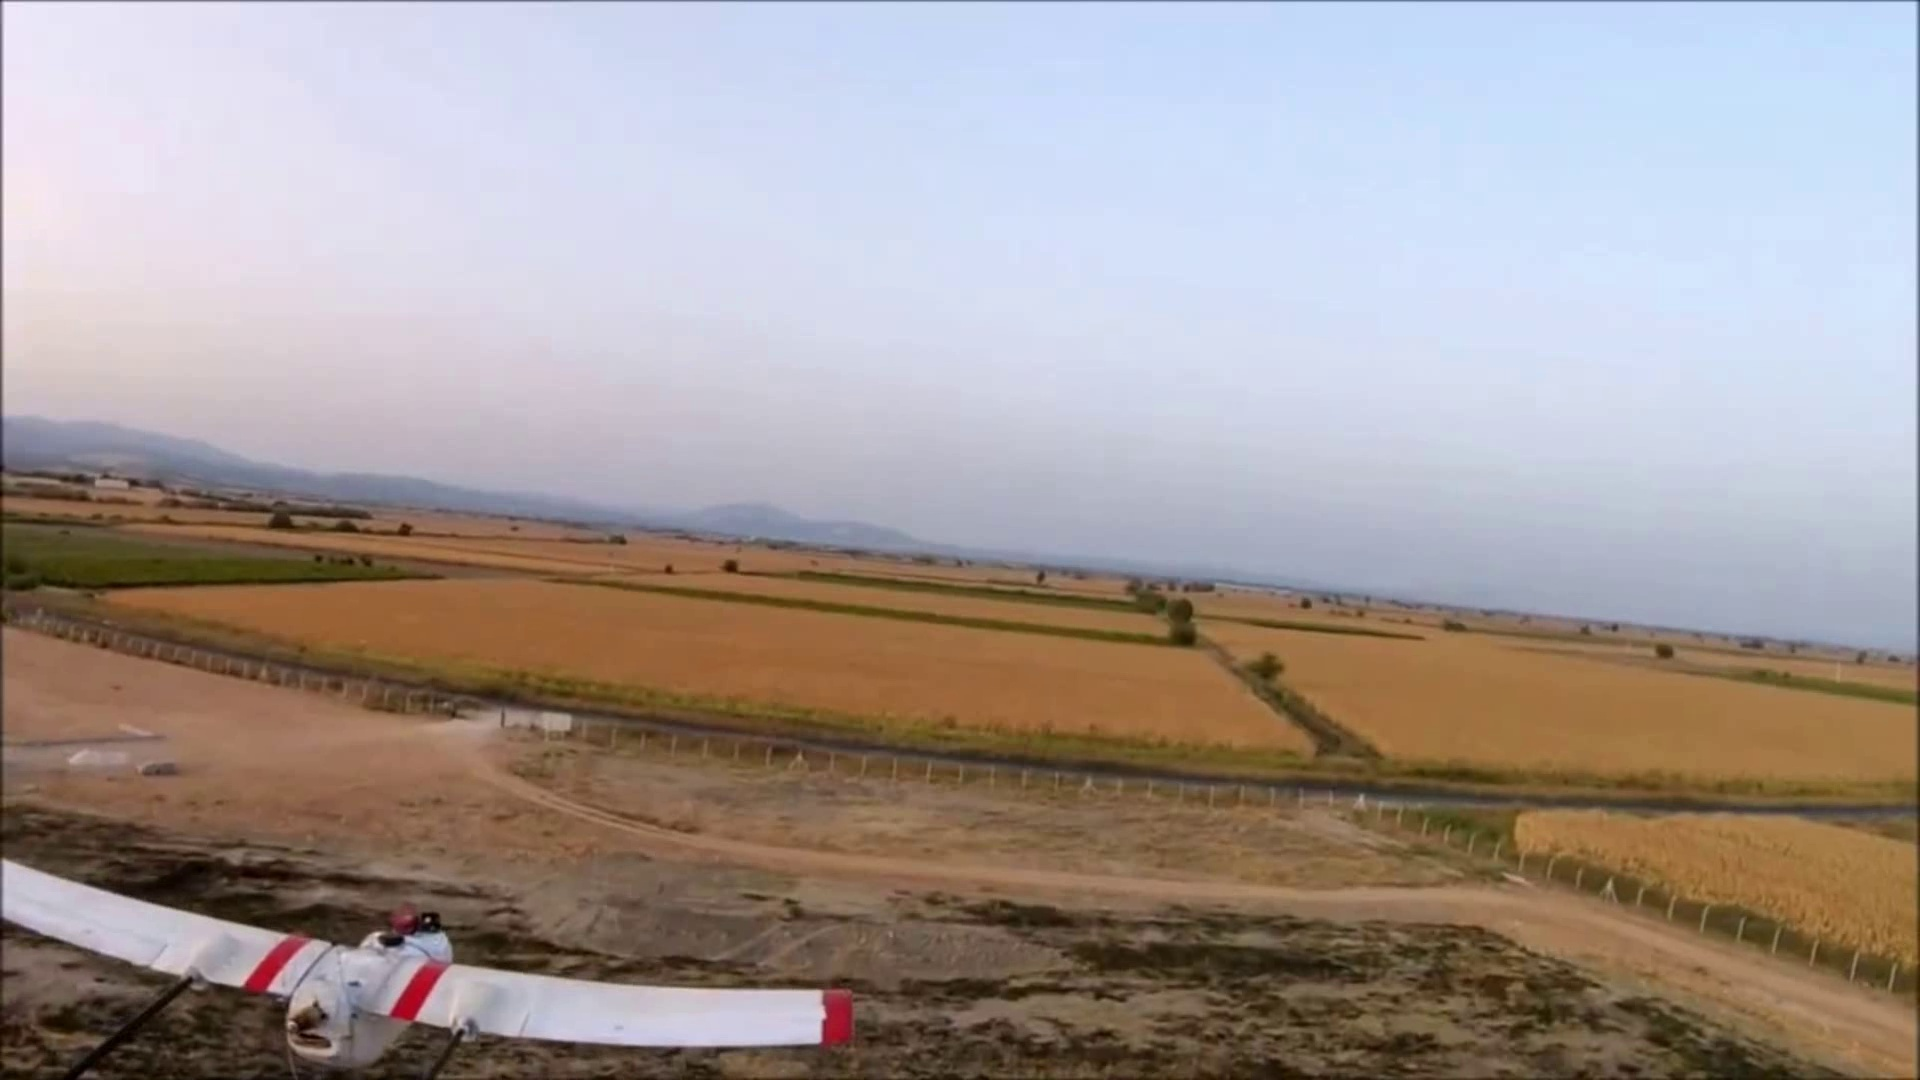airplane: (2, 857, 863, 1065)
